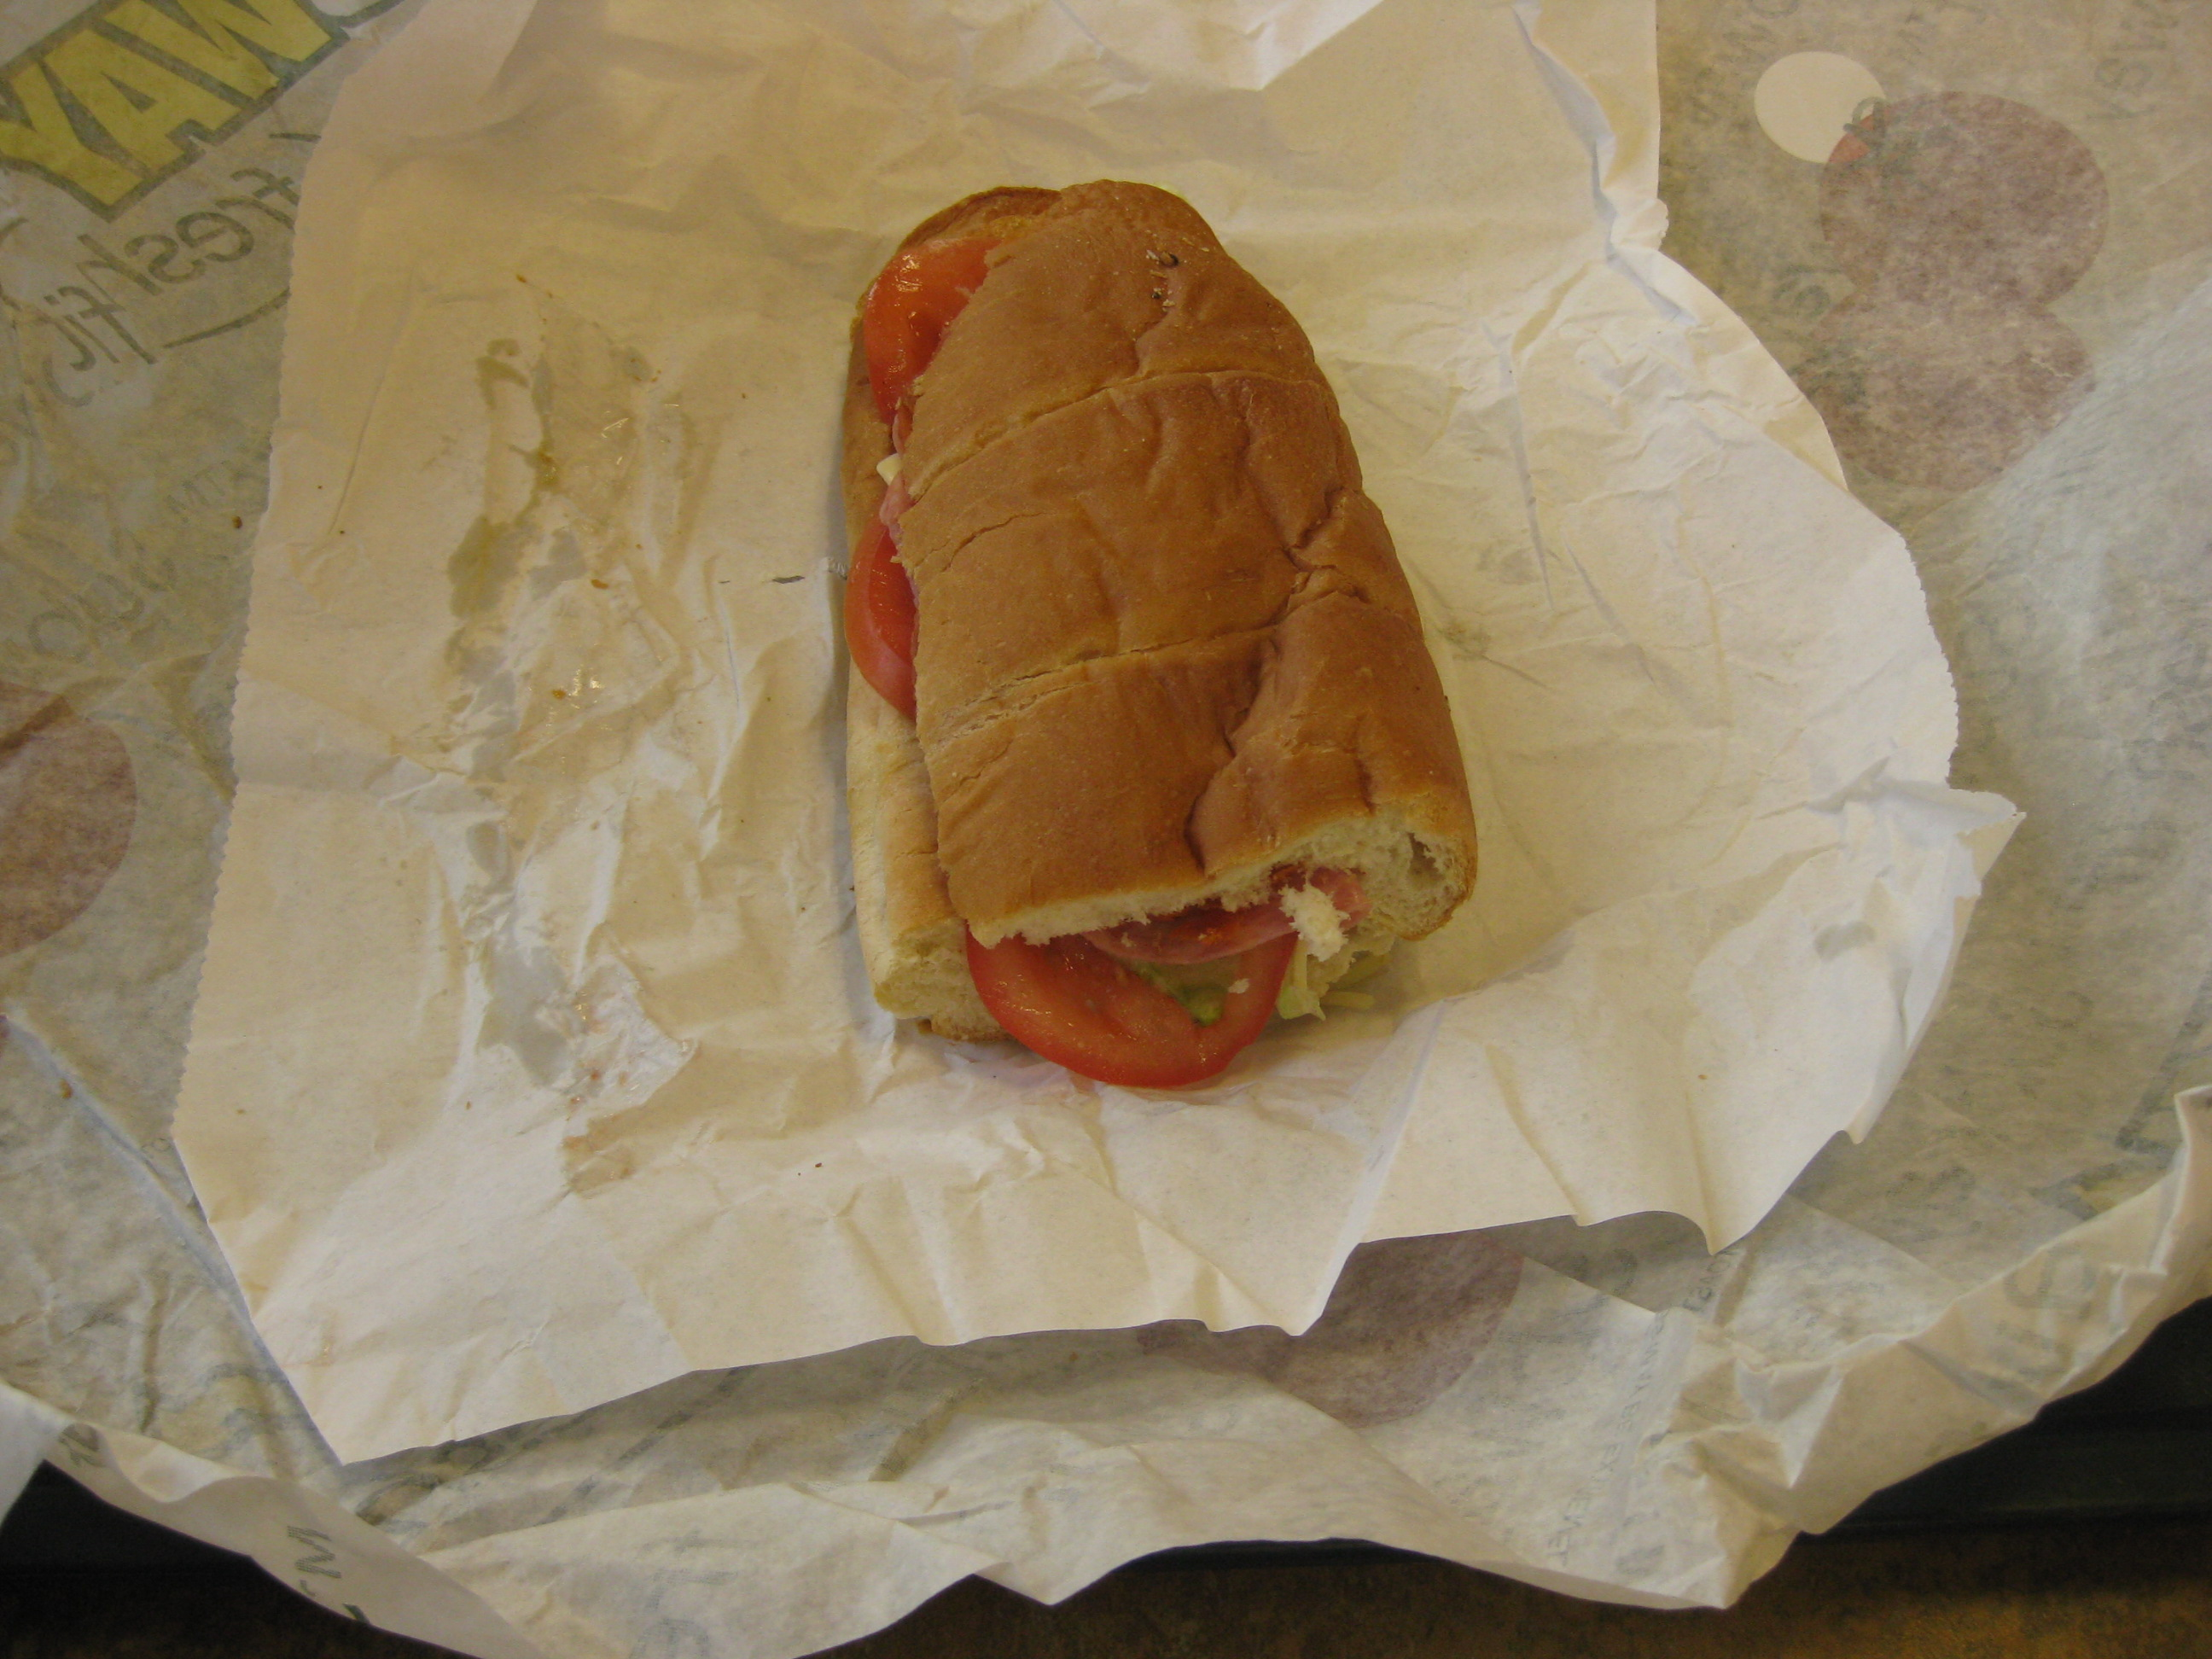sub: (824, 185, 1499, 1070)
